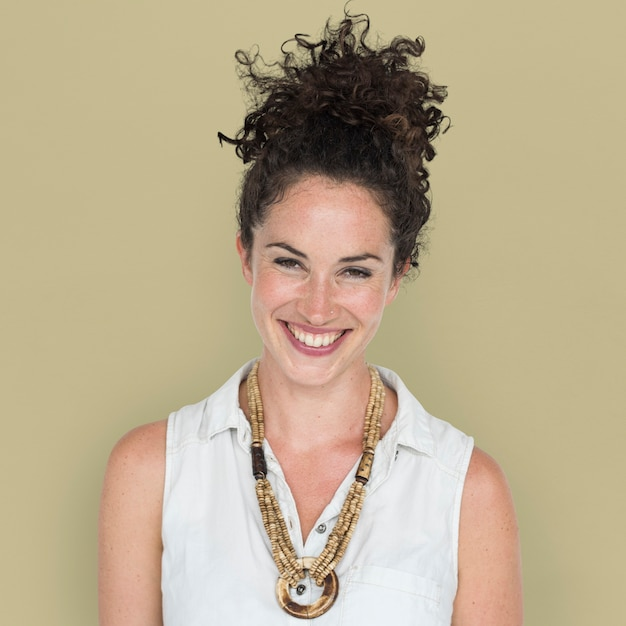teen: (217, 80, 426, 408)
